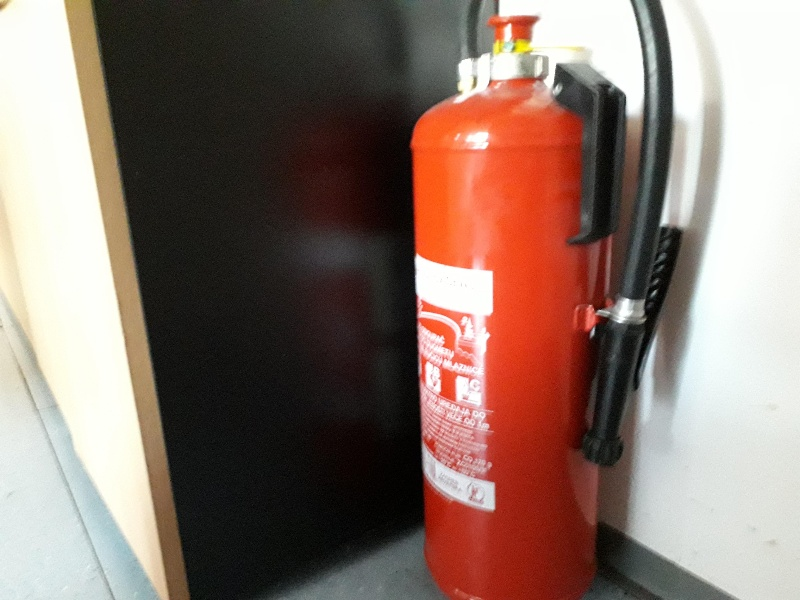vataparat: (408, 1, 683, 599)
